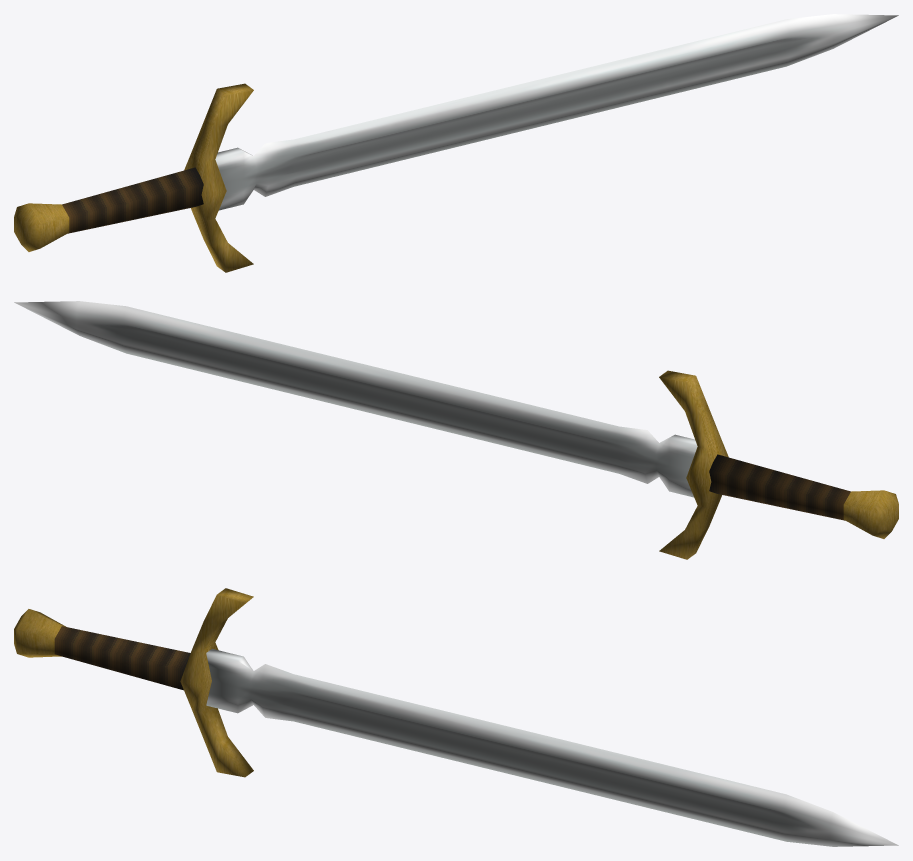
3 views of the same model, one above another, from view 1: azimuth 30°, elevation 25°; view 2: azimuth 150°, elevation 25°; view 3: azimuth 330°, elevation 25° (orthographic).
Visible parts, largest first — view 1: it168; view 2: it168; view 3: it168.
Part boxes in pixels (bbox=[...]): it168: bbox=[14, 14, 898, 272]; it168: bbox=[14, 301, 898, 559]; it168: bbox=[14, 588, 898, 846].
Size of the model in its own units: 3.11 by 0.6018 by 0.1444.
3 materials, 3 textured.
